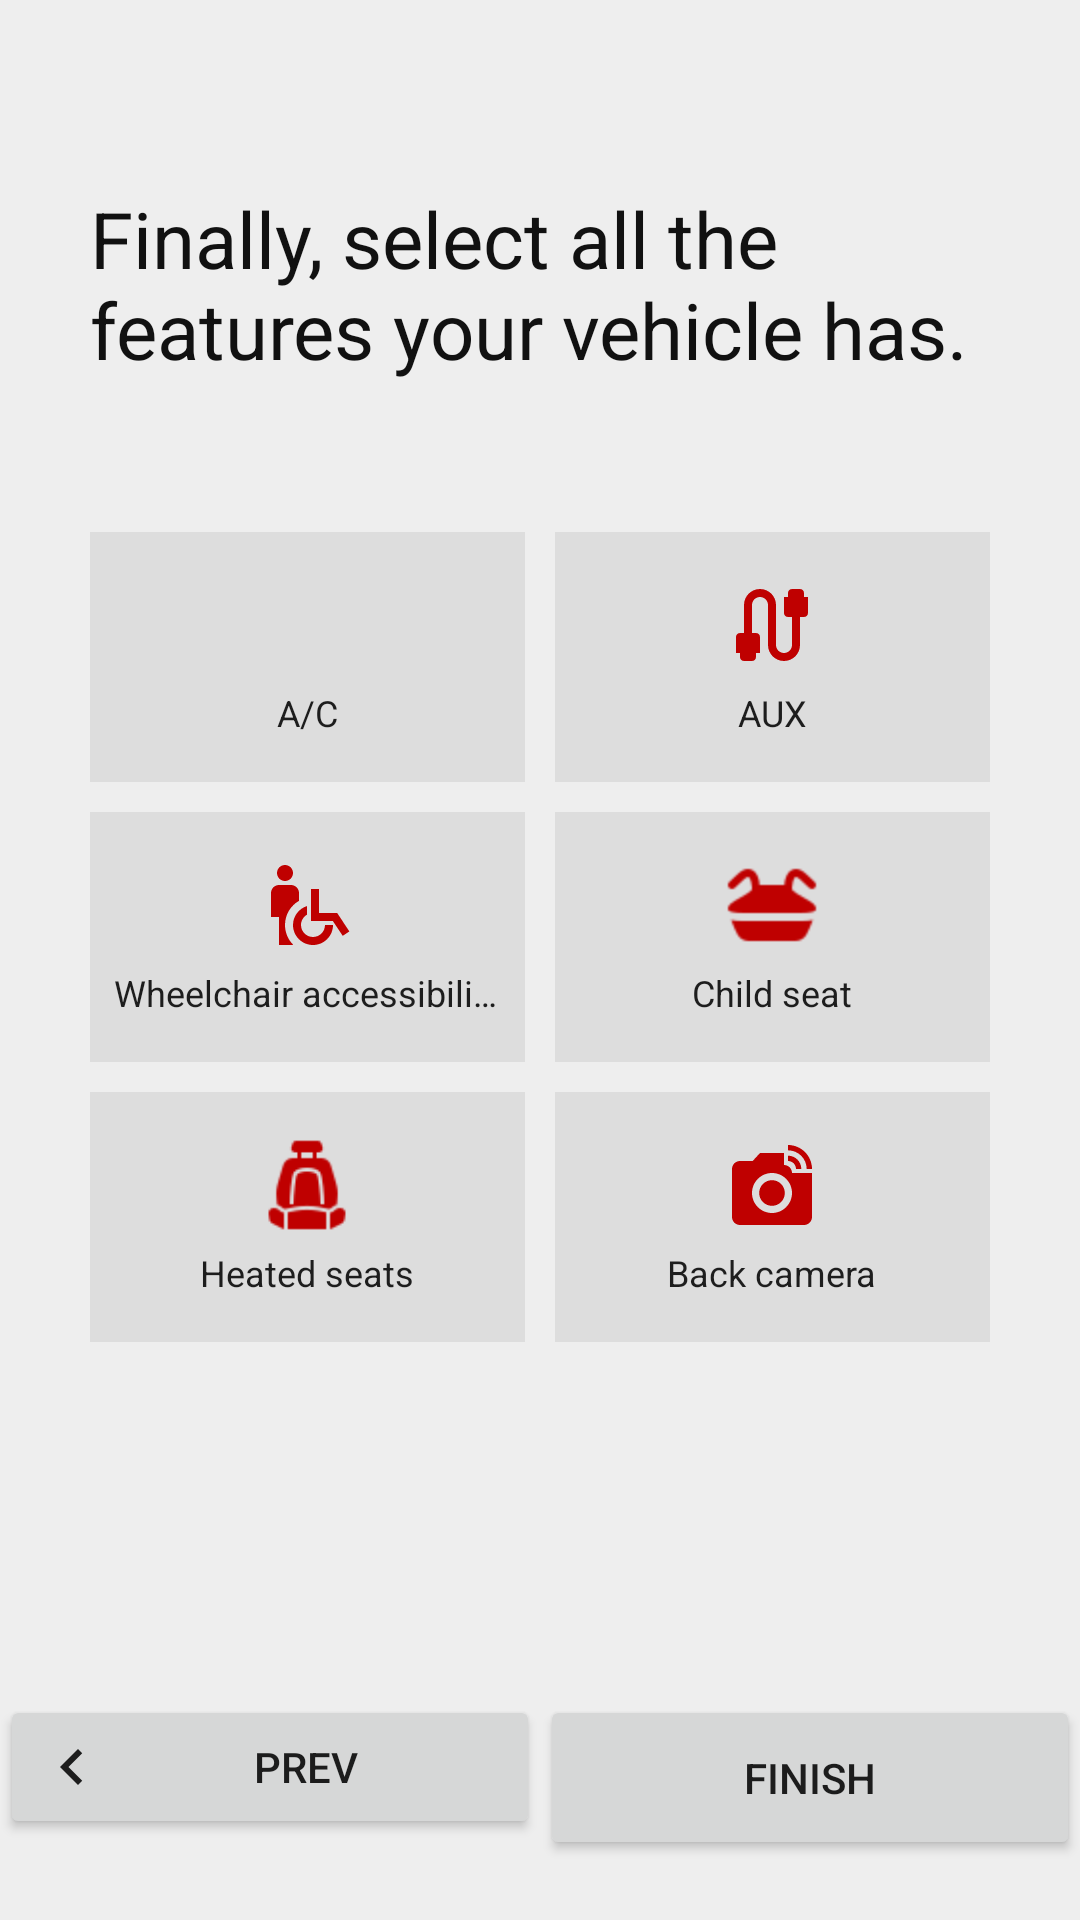

Icons on this 1080 x 1920 Android screen, each with its box as bbox=(x1, y1, x2, y2):
cable: bbox=(736, 589, 808, 661)
linked camera: bbox=(732, 1145, 812, 1225)
wheelchair pickup: bbox=(271, 865, 350, 945)
